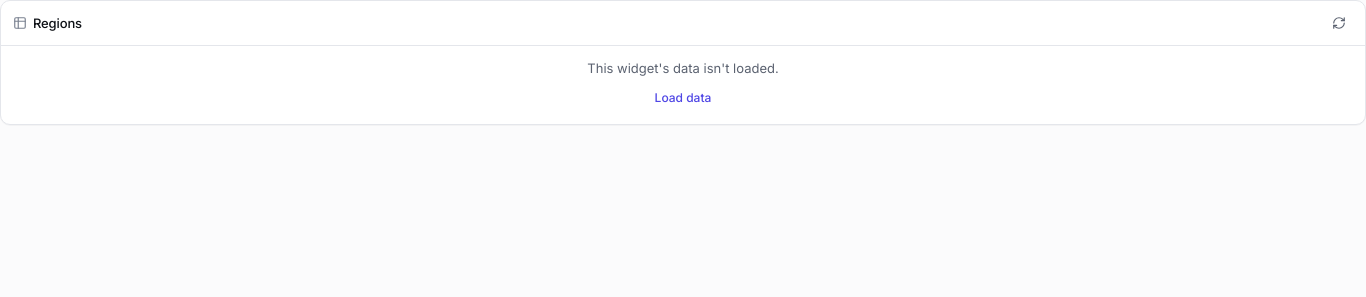
it: dashboard mutations leave widget data alone › offers to load a widget whose request was cancelled instead of rendering an empty tile
Expected: the element named "Regions not loaded" is shown, [587,60,779,112]
Click the button "Load data": [683, 98] box [647,84,719,112]
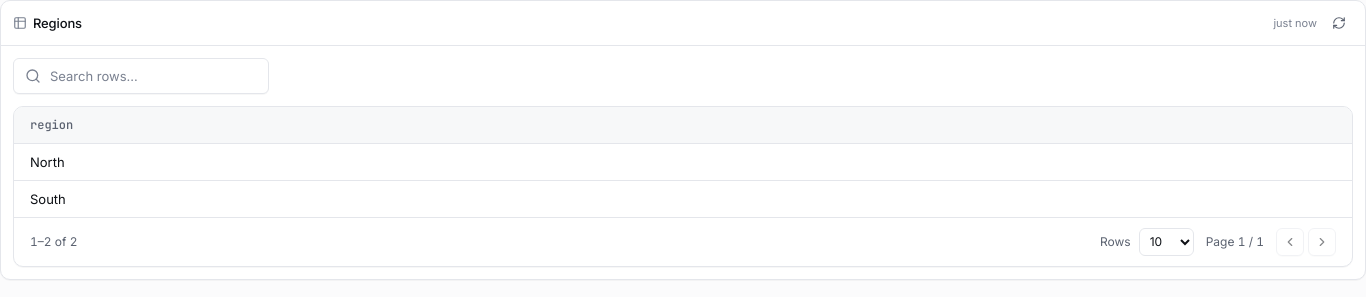
Result: the text "North" is shown at [30,154,65,170]
